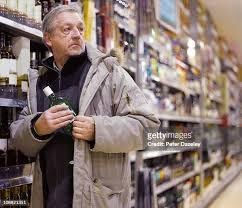shoplifting: (13, 51, 131, 167)
